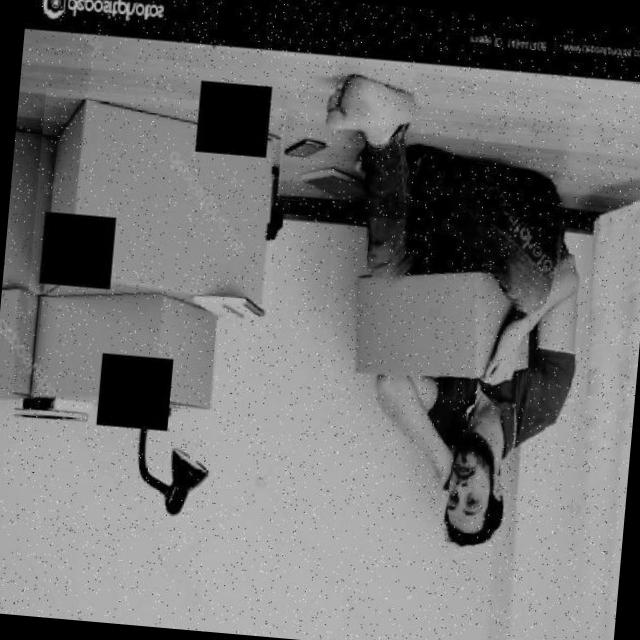box: (26, 86, 287, 336), (319, 213, 553, 407), (28, 278, 250, 437)
